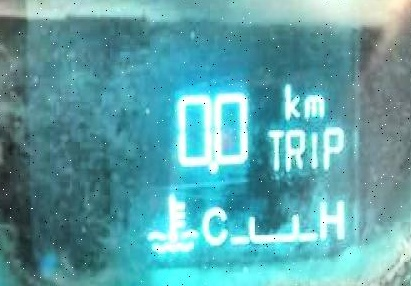-: (204, 157, 217, 173)
0: (211, 88, 248, 165), (175, 90, 212, 166)
X: (198, 202, 227, 247), (317, 196, 344, 240), (320, 123, 345, 170), (285, 125, 305, 170), (265, 125, 284, 170), (282, 80, 299, 120), (302, 90, 323, 118), (306, 126, 318, 170)
